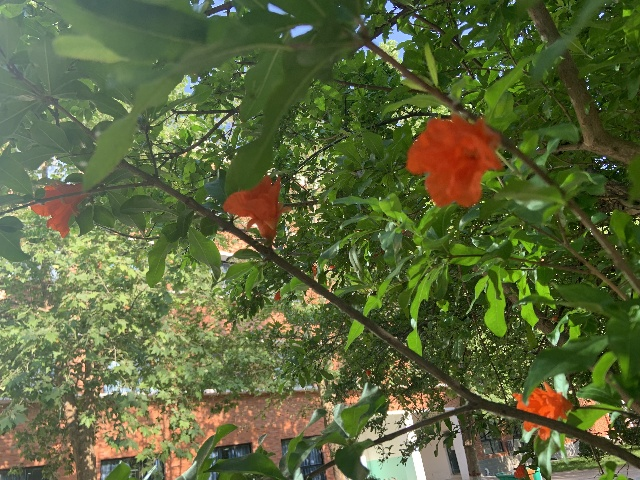flower: (406, 113, 503, 208), (222, 175, 291, 239), (512, 381, 573, 441), (29, 180, 87, 238), (513, 465, 526, 477)
